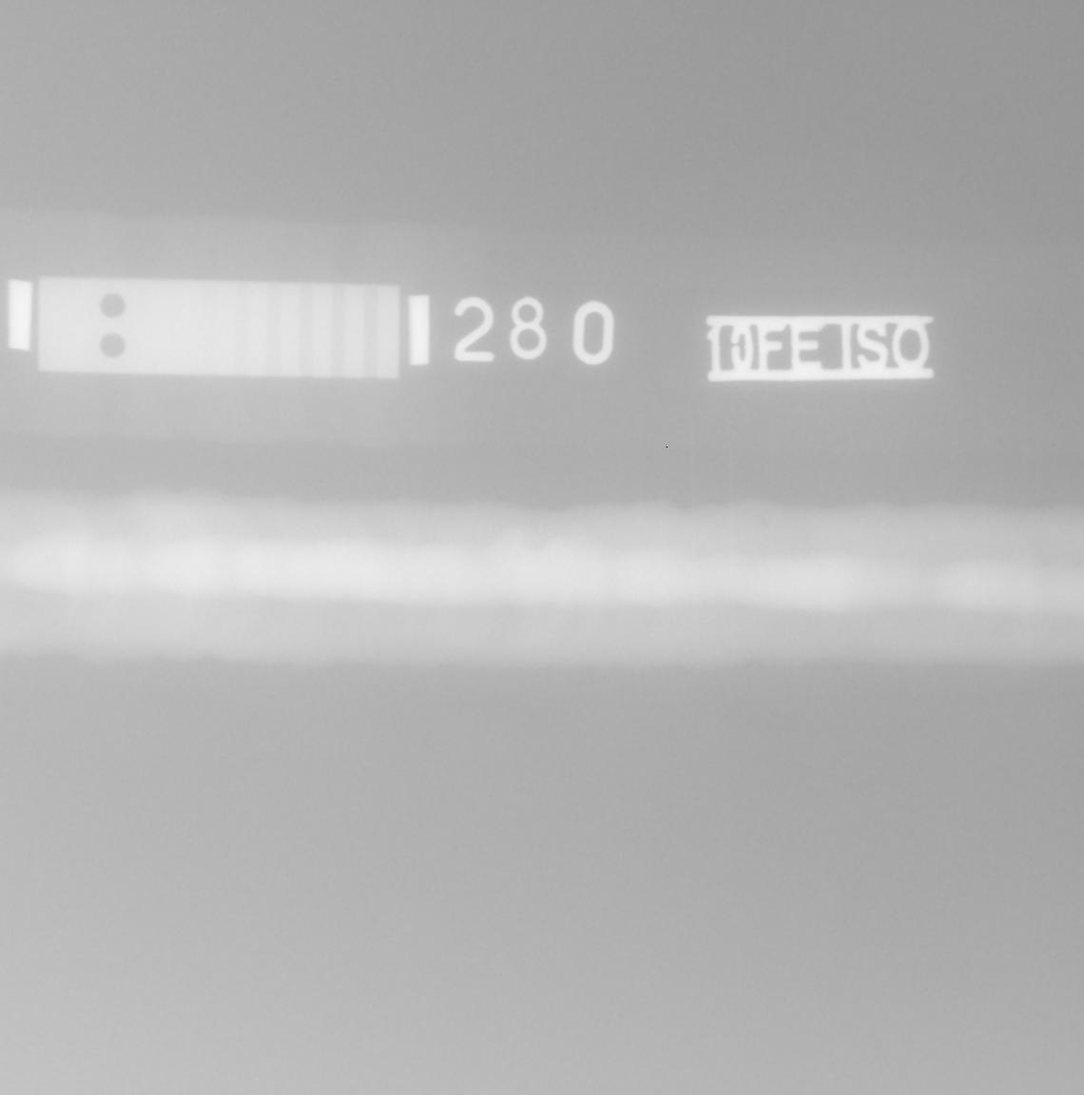Pore/Porosity: (758, 515, 769, 527)
Reference Standard 2: (38, 277, 400, 379)
